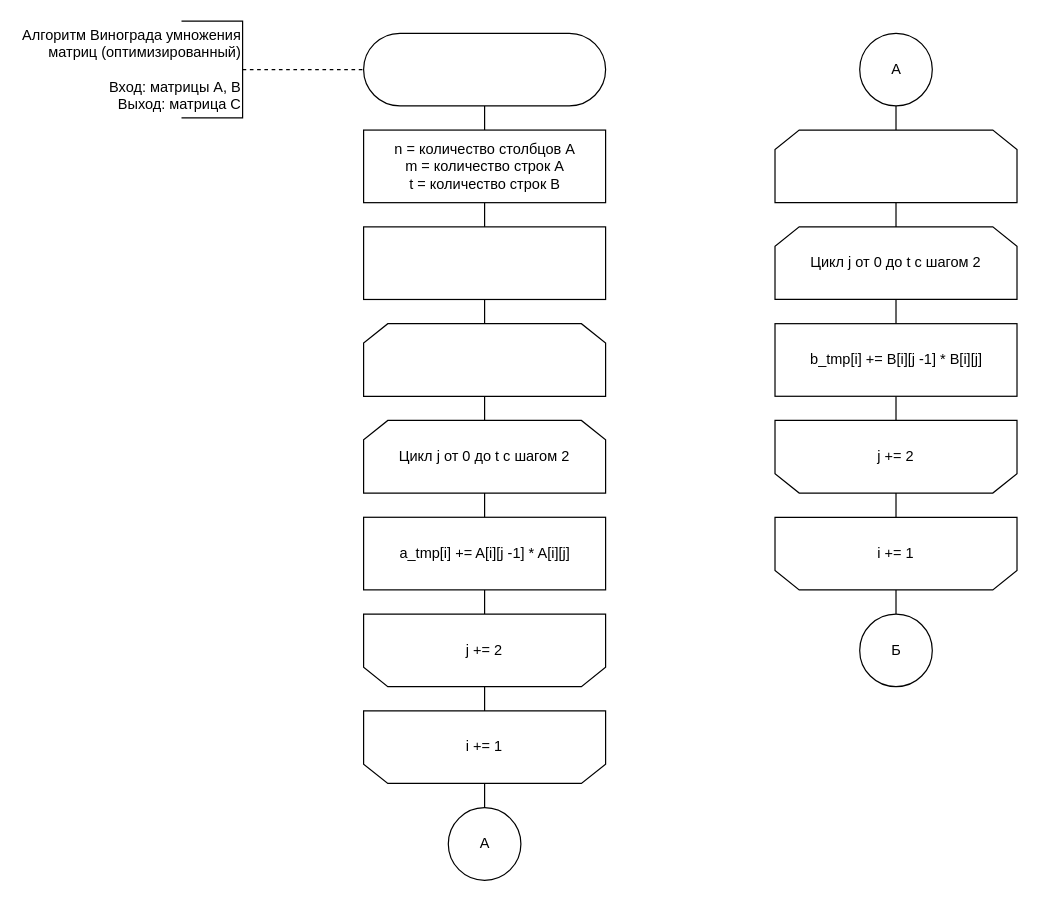
Some shapes in this 1038 by 901 pixel diagram are drawn without their labels. The centre of each missing label's shape, as x and y in pixels:
Начало: the point at 484,69
Создать доп массивы a_tmp длиной n, b_tmp длиной m: the point at 484,262
Цикл i от 0 до m: the point at 895,166
Цикл i от 0 до n: the point at 484,359
